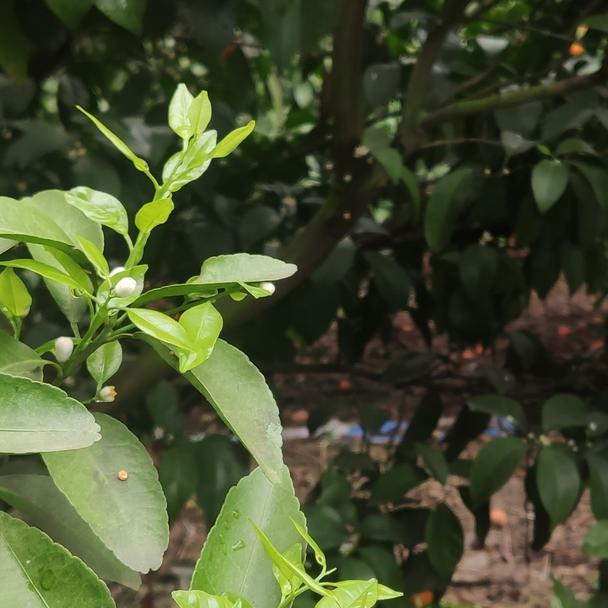shoot: (85, 100, 252, 259)
